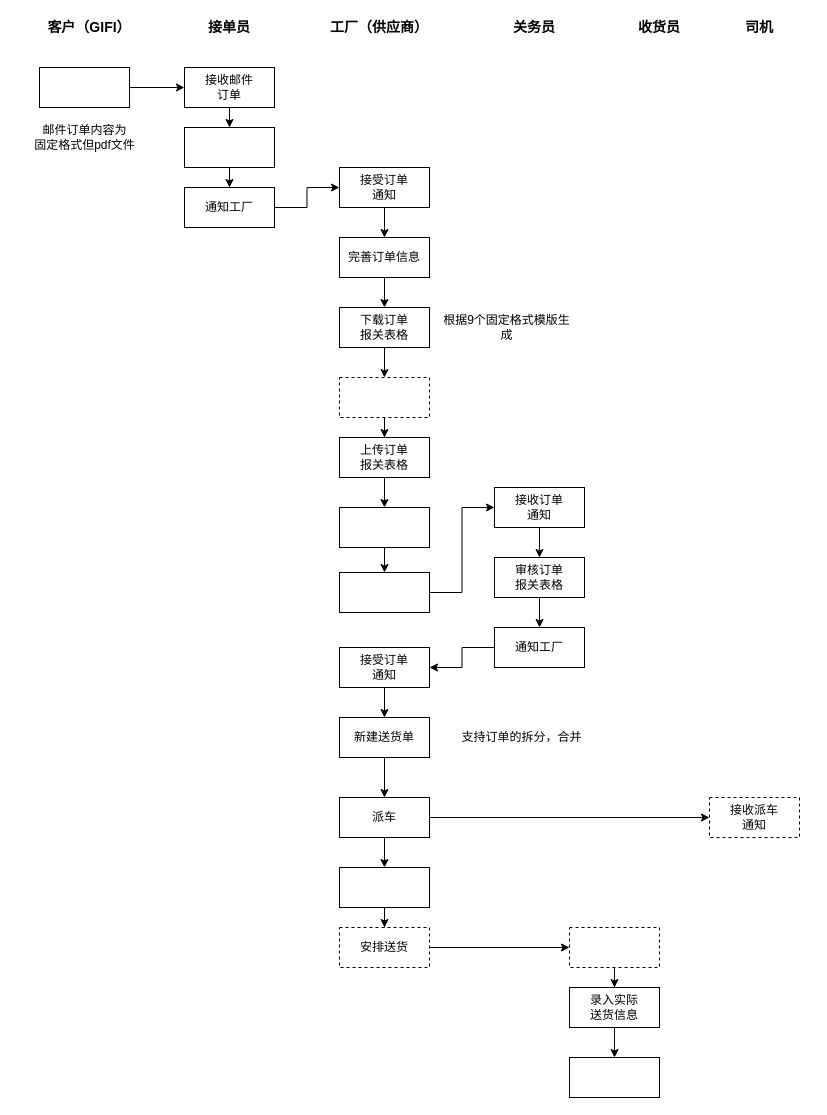
Image size: 827x1115. Some labels were removed from this diagram. The shapes that lost their labels are listed below. From the top down, each one's centre as x and y in pixels, then its label:
the point at 84,87: 邮件发送 订单
the point at 229,147: 导入邮件 订单
the point at 384,397: 完善订单 报关表格
the point at 384,527: 提交订单
the point at 384,592: 通知关务人员
the point at 384,887: 导出送货单
the point at 614,947: 接受送货
the point at 614,1077: 导出WMS 入库单
